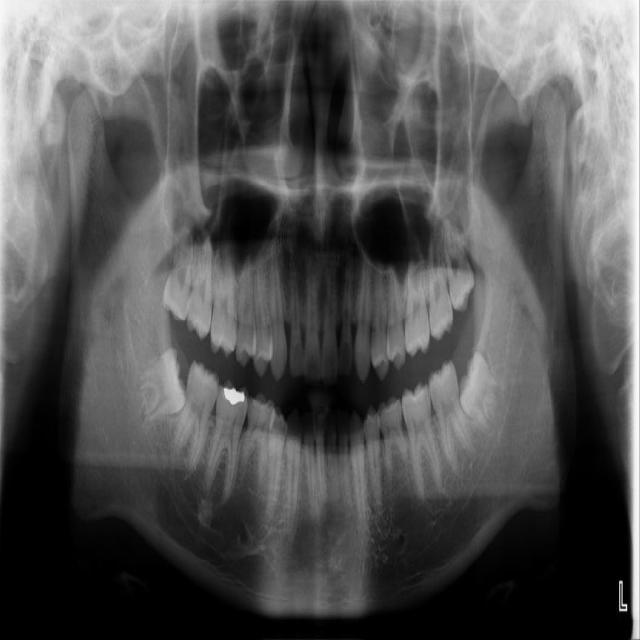3M ESPE Implant: (159, 214, 203, 323)
52: (206, 375, 254, 430)
73: (596, 543, 599, 549)
BioHorizons Implant: (425, 221, 455, 342)
BioLife Implant: (438, 214, 479, 314)
Biomet 3i Implant: (449, 348, 513, 433)
Blue Sky Bio Implant: (422, 358, 479, 474)
Caries: (186, 227, 213, 340)
Implant: (168, 359, 225, 475)
Keystone Dental Implant: (131, 346, 191, 423)
